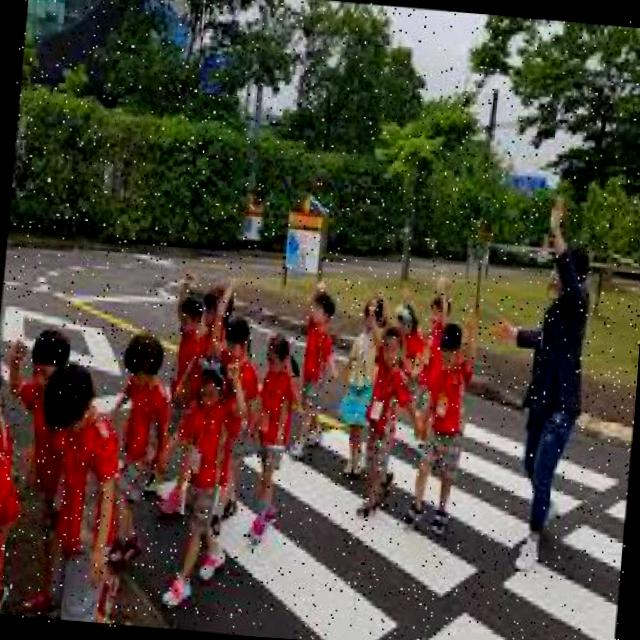Person: (489, 234, 597, 576), (23, 353, 133, 620), (152, 356, 250, 614), (406, 302, 483, 530), (100, 330, 170, 562), (356, 318, 424, 524), (242, 328, 302, 538), (289, 282, 346, 460), (338, 284, 387, 479), (161, 280, 205, 430)
